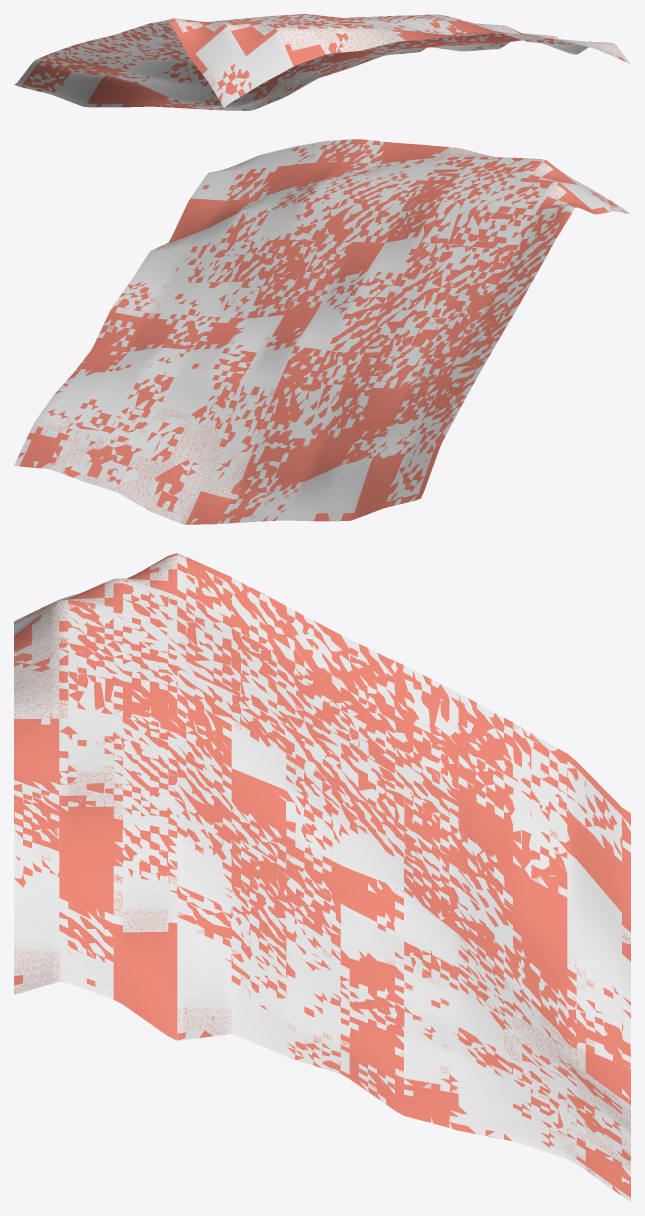
Rendered from Terrain03.fbx.
3 views of the same model, one above another, from view 1: azimuth 30°, elevation 25°; view 2: azimuth 150°, elevation 25°; view 3: azimuth 270°, elevation 25° (orthographic). The views are drawn at different scales.
Visible parts, largest first — view 1: Terrain03_LOD0, UTM_Terrain03; view 2: Terrain03_LOD0, UTM_Terrain03; view 3: Terrain03_LOD0, UTM_Terrain03.
Boxes of the visible parts, bbox=[...] form: Terrain03_LOD0: bbox=[14, 14, 630, 110]; UTM_Terrain03: bbox=[22, 14, 627, 110]; Terrain03_LOD0: bbox=[14, 140, 630, 524]; UTM_Terrain03: bbox=[17, 139, 626, 524]; Terrain03_LOD0: bbox=[14, 553, 630, 1201]; UTM_Terrain03: bbox=[14, 553, 630, 1197].
Size of what is drawn, in the model's own units: 15200 by 9400 by 13600.
